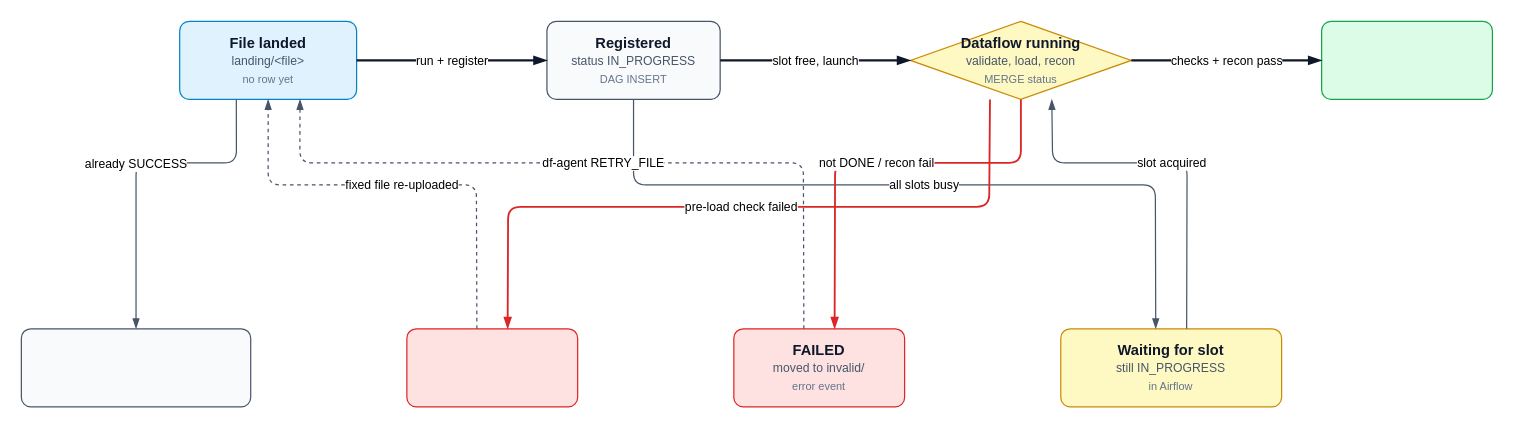
Some shapes in this 1514 by 428 pixel diagram are drawn without their labels. Here are the shapes that lost their labels. From the top down, the box of each, then its label:
(1320, 20, 1492, 99): SUCCESS moved to archive/ terminal
(20, 328, 251, 407): DUPLICATE_SKIPPED generation already loaded terminal
(406, 328, 578, 407): REJECTED moved to invalid/ error event
